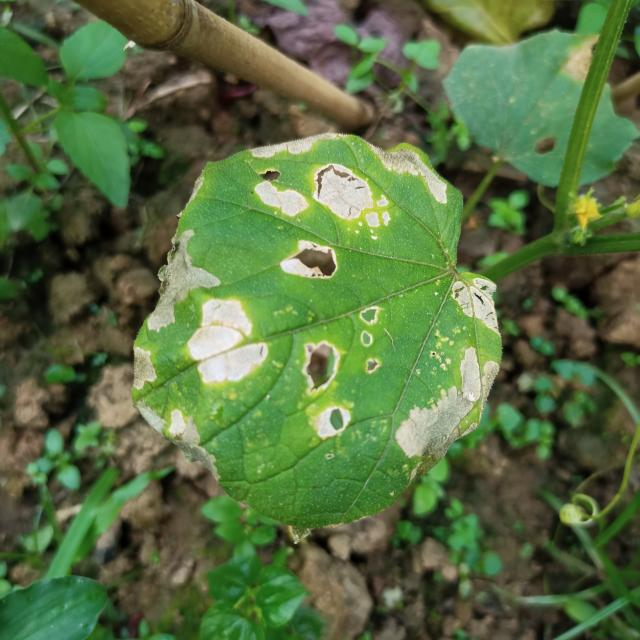disease_cucumber: (109, 240, 387, 464), (248, 134, 460, 282), (393, 270, 506, 486)
